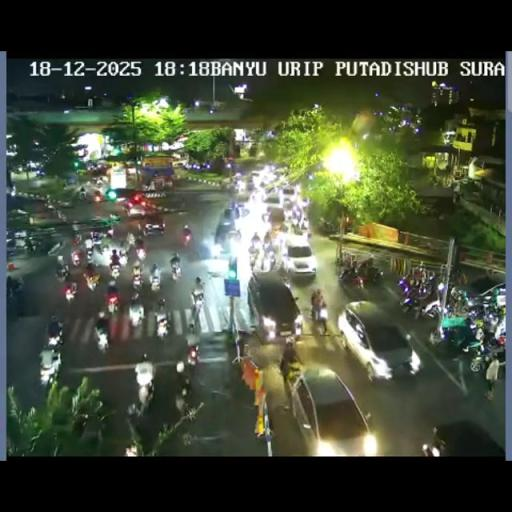Car: (289, 366, 375, 456), (339, 301, 421, 380), (246, 271, 304, 344), (426, 418, 504, 456), (283, 233, 318, 278), (193, 332, 228, 374), (214, 204, 244, 251), (124, 195, 149, 218), (262, 190, 284, 214), (142, 214, 166, 236), (250, 168, 272, 189), (280, 185, 298, 208), (234, 180, 252, 201)
Motorcycle: (86, 281, 180, 349), (182, 388, 228, 449), (62, 228, 118, 278), (398, 270, 442, 317), (464, 329, 505, 373), (448, 334, 470, 392), (464, 298, 502, 328), (74, 408, 104, 446), (127, 384, 154, 420), (38, 346, 62, 385), (234, 327, 254, 364), (31, 232, 60, 255), (358, 262, 384, 286), (282, 358, 303, 386), (310, 305, 330, 334), (449, 285, 473, 309), (47, 314, 63, 344), (154, 310, 170, 338), (6, 274, 24, 298), (174, 386, 189, 414), (290, 209, 308, 232), (129, 300, 144, 327), (95, 328, 110, 353), (84, 270, 101, 290), (106, 292, 120, 315), (260, 249, 274, 272), (318, 218, 338, 234), (411, 262, 425, 284), (170, 256, 182, 281), (63, 282, 77, 303), (248, 246, 260, 270), (191, 288, 204, 310), (55, 264, 70, 283), (250, 188, 266, 205), (453, 268, 467, 287), (134, 238, 146, 260), (293, 312, 303, 338), (6, 237, 19, 257), (150, 264, 160, 289), (132, 264, 142, 287), (279, 270, 291, 287), (188, 346, 198, 366), (70, 250, 82, 266), (210, 242, 222, 258), (84, 237, 94, 256), (110, 262, 120, 280), (25, 237, 35, 254), (130, 288, 140, 304), (125, 232, 135, 248), (92, 190, 105, 202), (71, 233, 82, 247), (156, 297, 166, 312), (182, 230, 191, 246), (100, 240, 110, 254), (109, 213, 119, 227), (56, 207, 66, 221), (91, 176, 104, 186), (194, 276, 204, 289), (118, 248, 127, 262), (56, 254, 65, 268), (261, 210, 270, 222), (106, 227, 114, 240), (188, 323, 195, 335), (78, 190, 86, 200)
